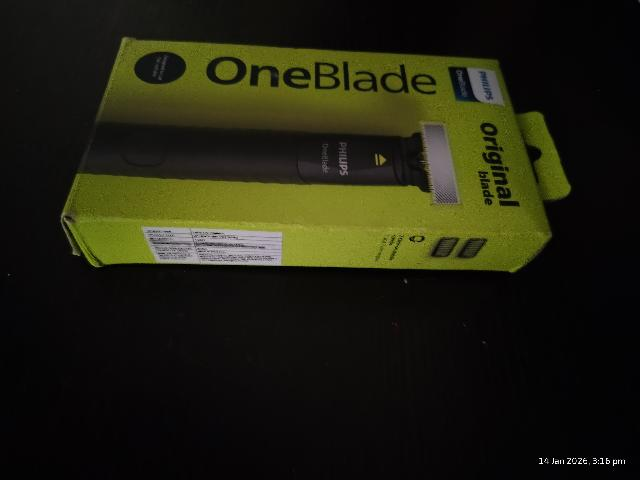phillips oneblade: (76, 25, 550, 281)
